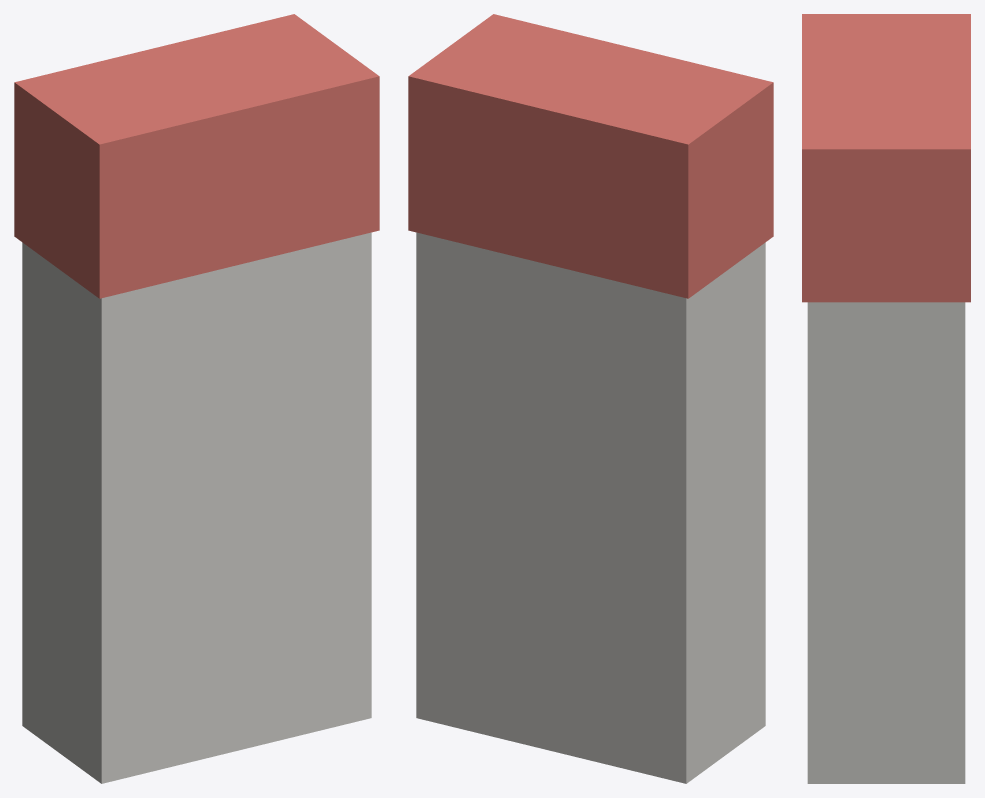
3 renders of one model, left to right at view 1: azimuth 30°, elevation 25°; view 2: azimuth 150°, elevation 25°; view 3: azimuth 270°, elevation 25°, orthographic.
Parts seen in each view (by area): view 1: WB_milestone; view 2: WB_milestone; view 3: WB_milestone.
Part boxes in pixels (box(x1,y1,x2,y2)): WB_milestone: box(14, 14, 379, 783); WB_milestone: box(408, 14, 773, 783); WB_milestone: box(802, 14, 970, 783).
Size of the model in its own units: 0.57 by 1.25 by 0.3.
